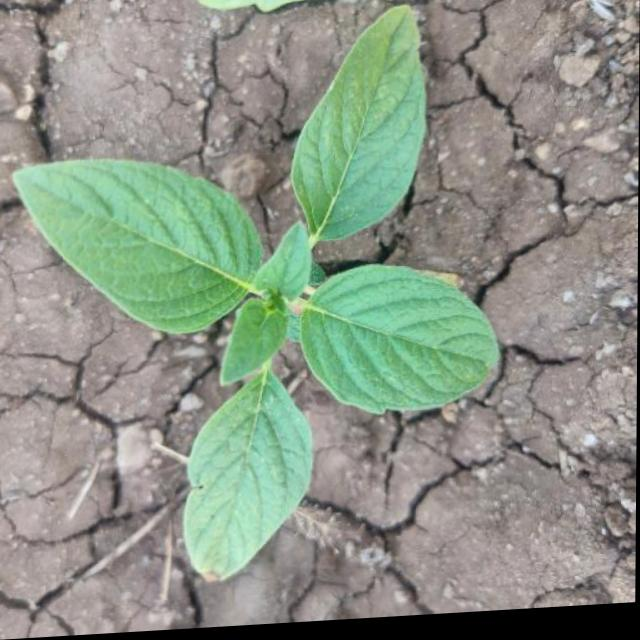crop: (3, 0, 531, 586)
